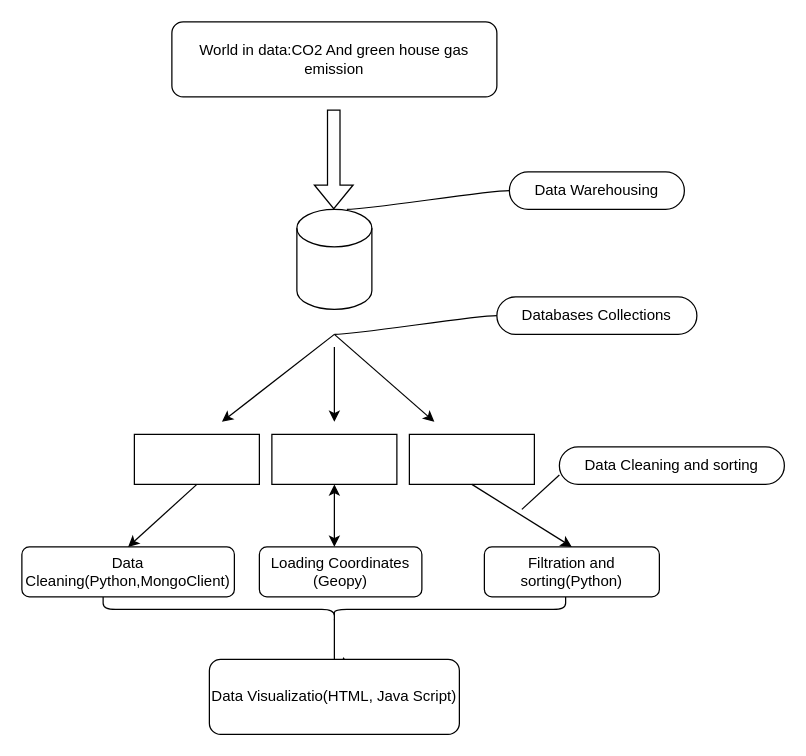
Image size: 806x756. Some labels were removed from this diagram. The centre of each missing label's shape, as x and y in pixels:
"CO2 Emission" belongs at (196,458).
"Country coordinates" belongs at (334,458).
"Country Temp" belongs at (471,458).
"MONGO DB" belongs at (334,258).
